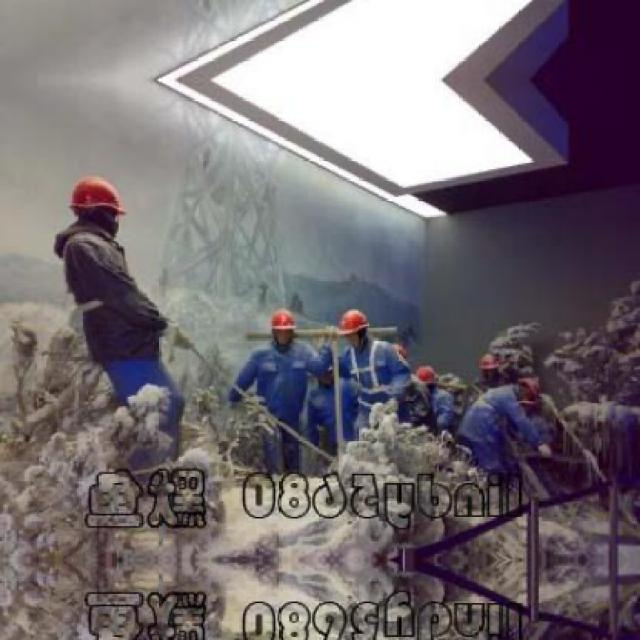helmet: (68, 172, 128, 237), (338, 306, 369, 351), (411, 360, 442, 402), (268, 306, 298, 348), (509, 376, 546, 404), (477, 349, 505, 382)
